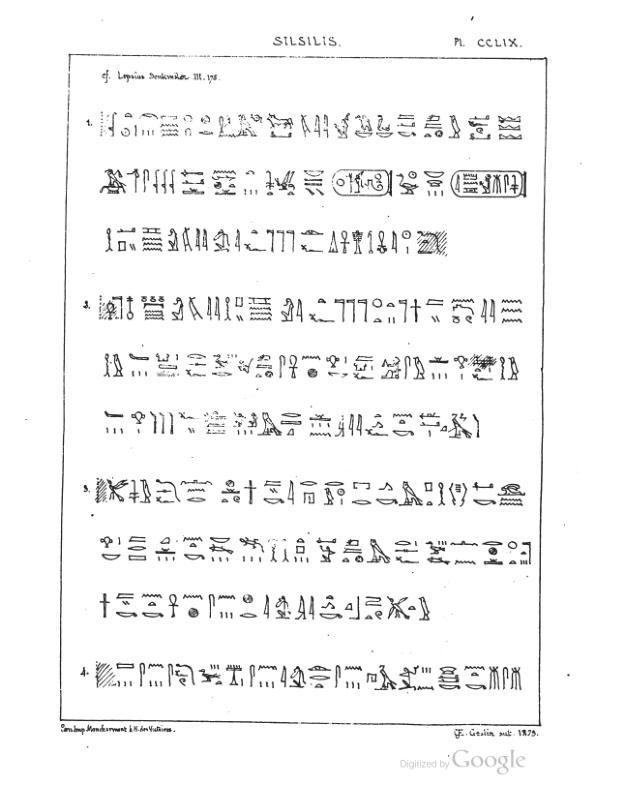circle: (449, 167, 530, 199), (331, 165, 397, 199)
